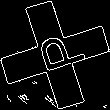P_W: (25, 30, 85, 80)
